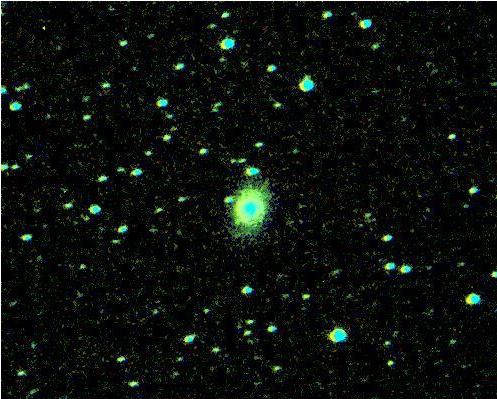star: (221, 202, 251, 232)
